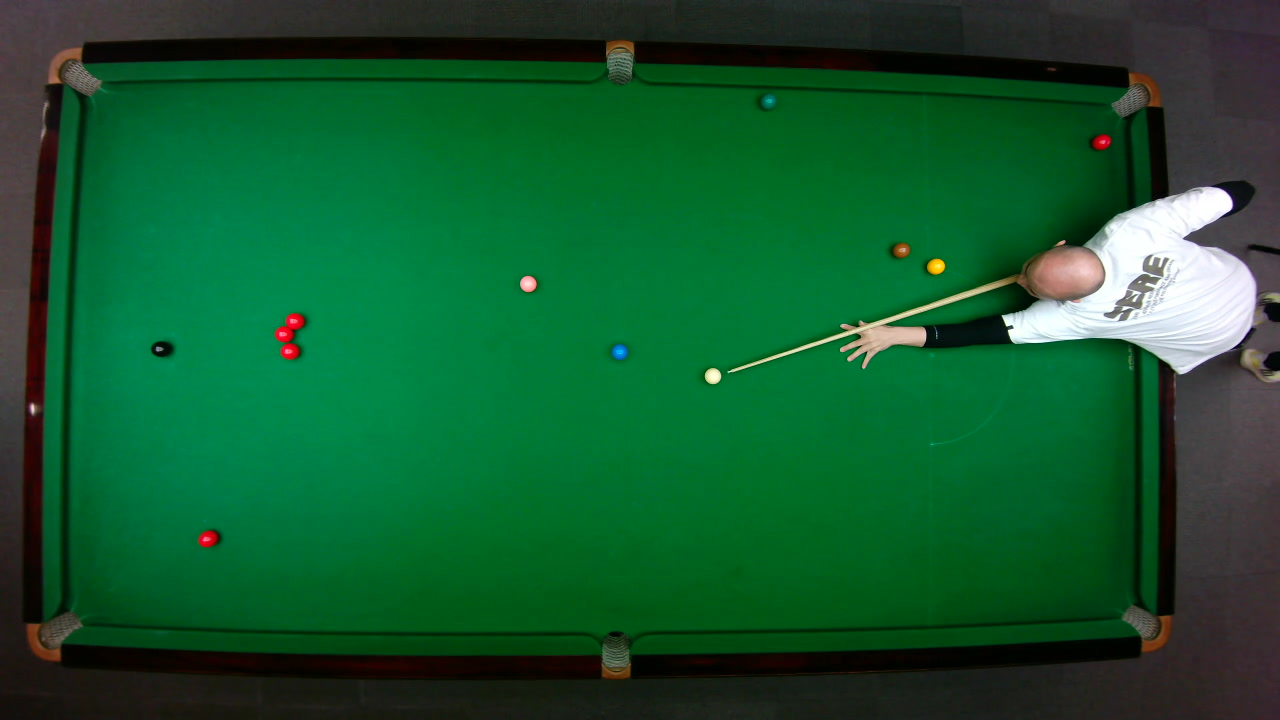bag: (24, 609, 83, 662), (45, 46, 102, 96), (1119, 603, 1172, 652), (1108, 71, 1161, 118), (600, 629, 629, 680), (605, 38, 633, 85)
black: (149, 339, 171, 357)
blue: (609, 343, 628, 360)
brown: (890, 241, 910, 258)
cue: (726, 273, 1024, 375)
green: (759, 92, 776, 110)
pink: (518, 273, 537, 292)
red: (196, 528, 219, 547), (284, 311, 305, 330), (1090, 132, 1112, 150), (279, 342, 300, 360), (273, 324, 293, 342)
white: (702, 366, 722, 384)
yellow: (925, 257, 946, 275)
zone: (928, 272, 1013, 446)
